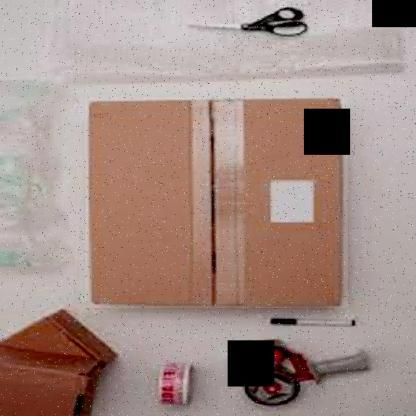-: (85, 97, 348, 308)
